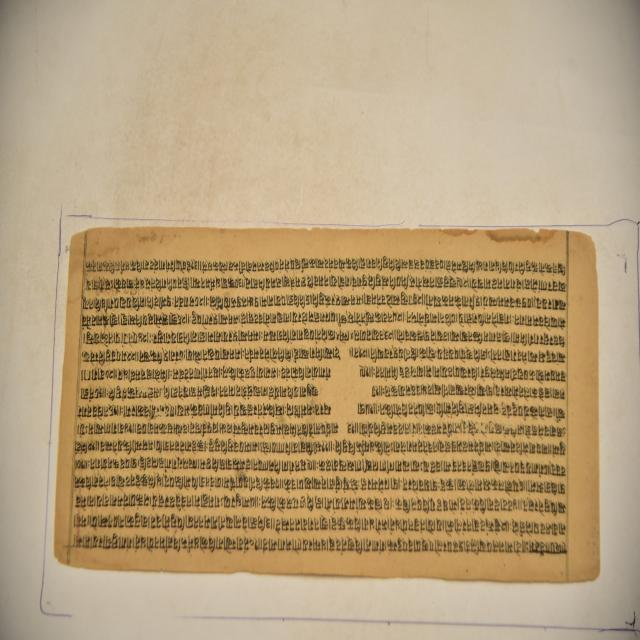text_paragraph: (52, 224, 597, 577)
